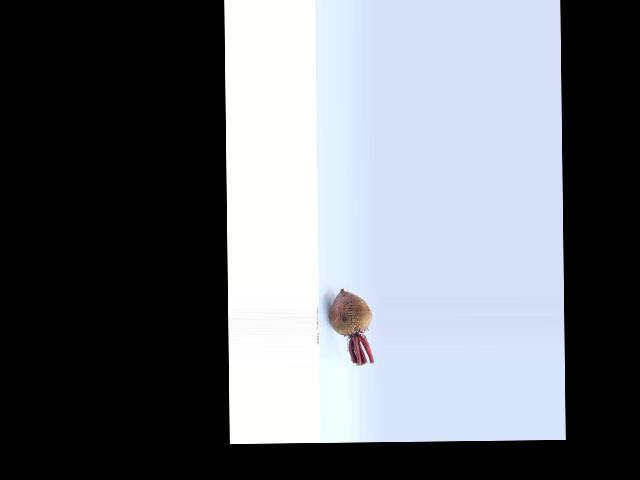beet: (329, 289, 372, 364)
